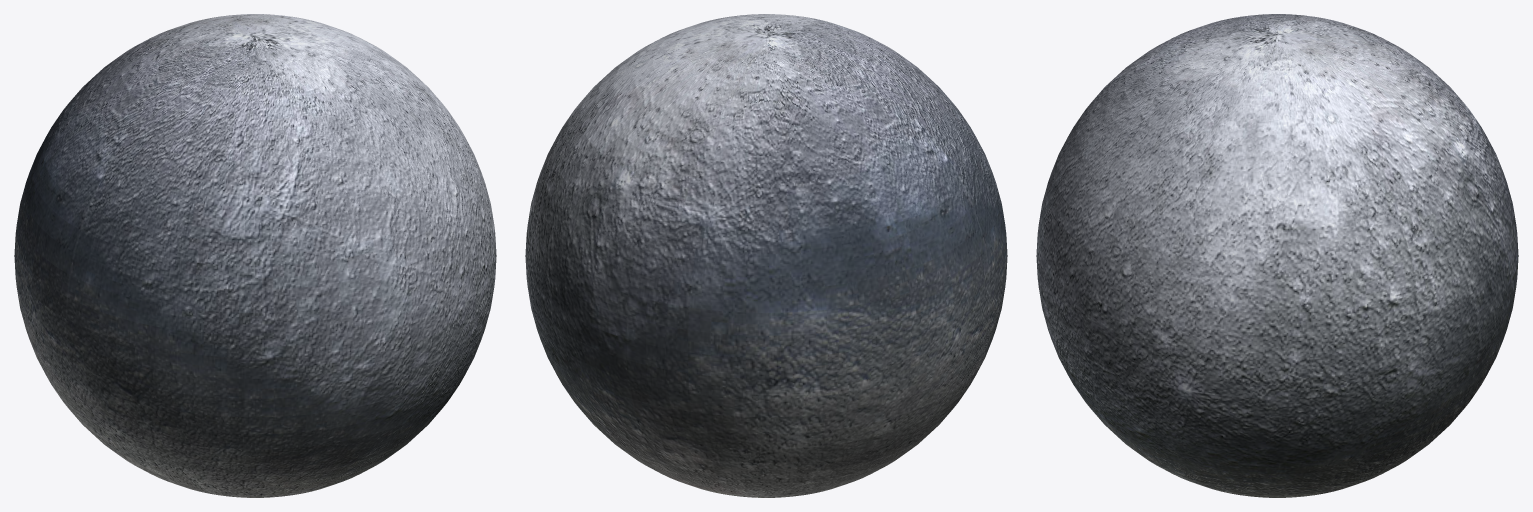
Rendered from mercurio.obj.
The picture shows the model from 3 angles, left to right: view 1: azimuth 30°, elevation 25°; view 2: azimuth 150°, elevation 25°; view 3: azimuth 270°, elevation 25°; orthographic projection.
Visible parts, largest first — view 1: Sphere; view 2: Sphere; view 3: Sphere.
Part boxes in pixels (bbox=[...]): Sphere: bbox=[14, 14, 496, 497]; Sphere: bbox=[525, 14, 1007, 497]; Sphere: bbox=[1036, 14, 1518, 497].
Bounding box in the file's own units: 1.97 × 2 × 1.98.
1 material, 1 textured.
